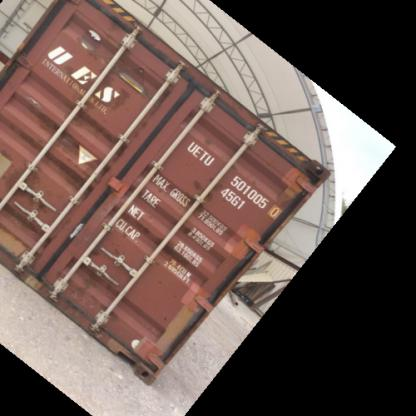Damage: (61, 66, 120, 123), (56, 272, 121, 320), (5, 156, 44, 198), (222, 226, 264, 254), (192, 176, 223, 210), (1, 231, 38, 253)
